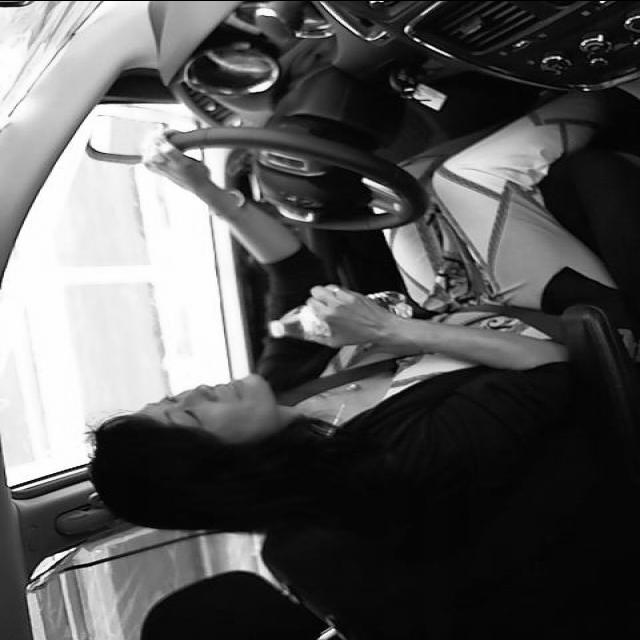drinking: (262, 286, 409, 346)
